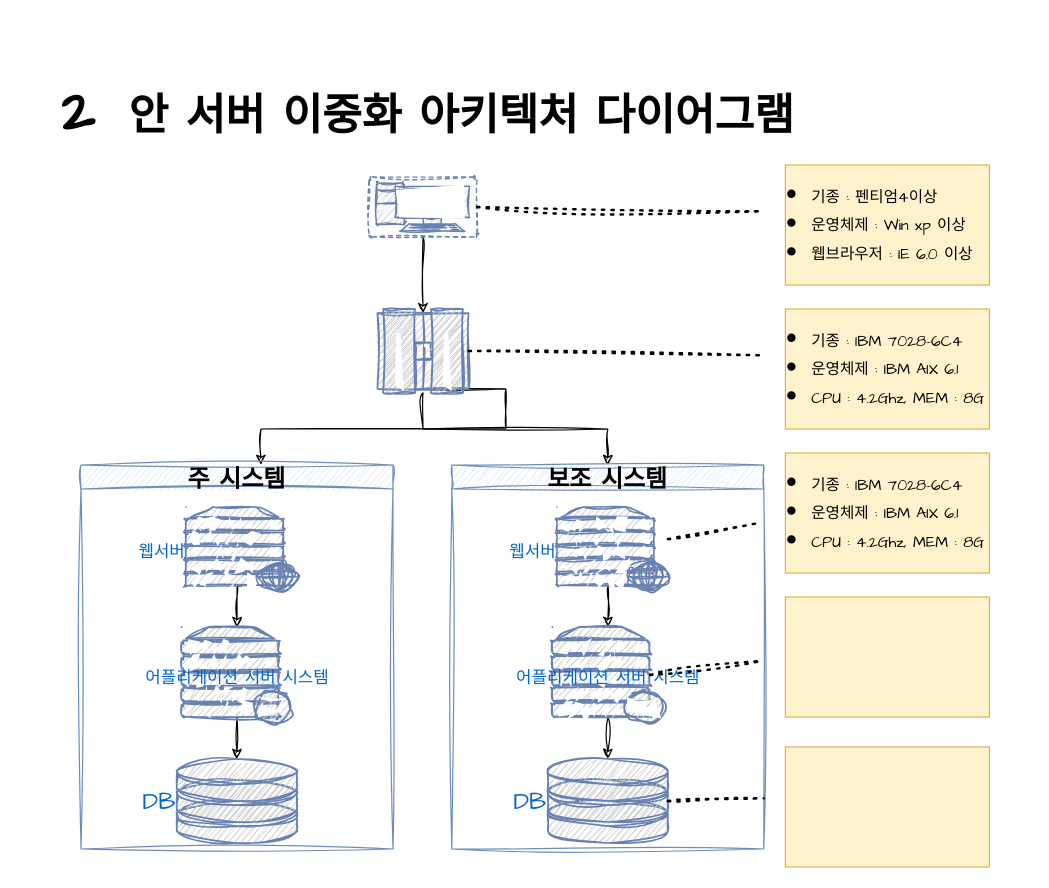
Some shapes in this 1049 by 888 pixel diagram are drawn without their labels. The centre of each missing label's shape, as x and y in pixels:
"기종 : IBM 9110-51A DBMS : Oracle 10g 운영체제 : IBM AIX 6.1 CPU : 4.2Ghz, MEM : 8G" belongs at point (886, 806).
"기종: IBM 9409 Model M50 운영체제 : IBM AIX 6.1 CPU : 4.2Ghz, MEM : 8G" belongs at point (886, 656).
"중개 서버" belongs at point (422, 350).
"클라이언트" belongs at point (422, 206).
